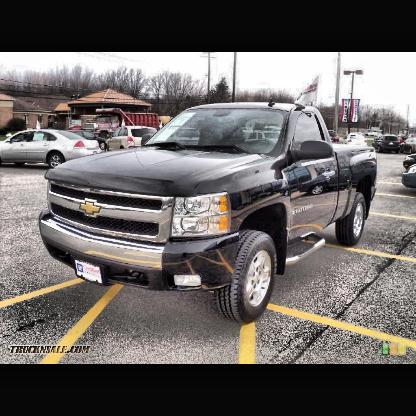Chevrolet Silverado 1500 Regular Cab 2012: (39, 103, 379, 326)
